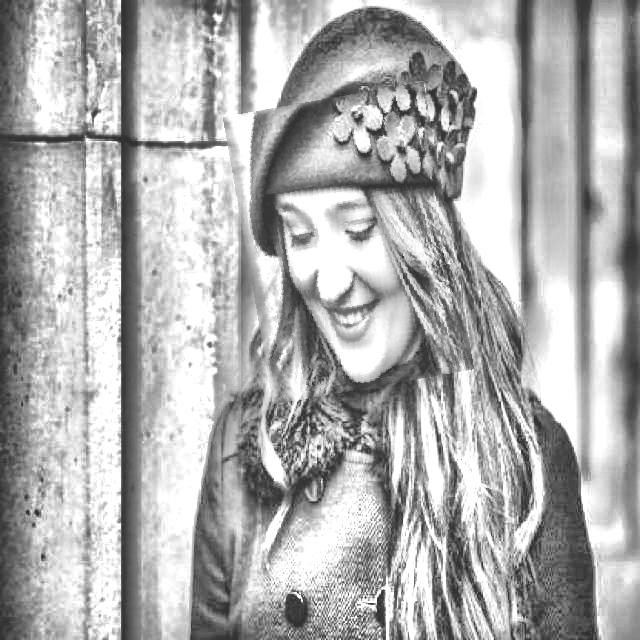happy: (235, 89, 463, 397)
